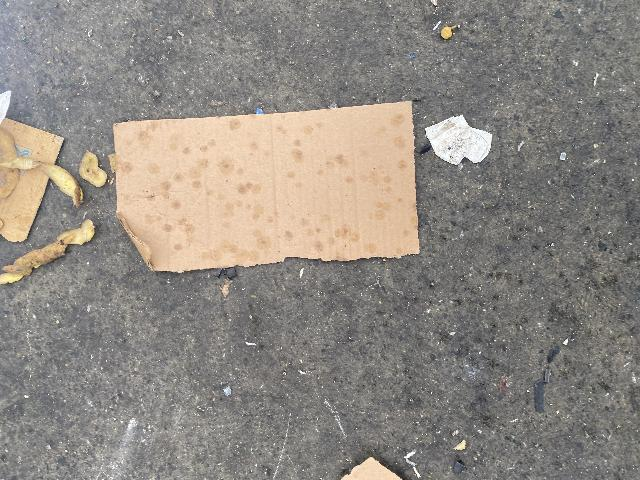Kagit: (113, 98, 421, 272), (0, 115, 67, 241), (424, 117, 495, 167)
